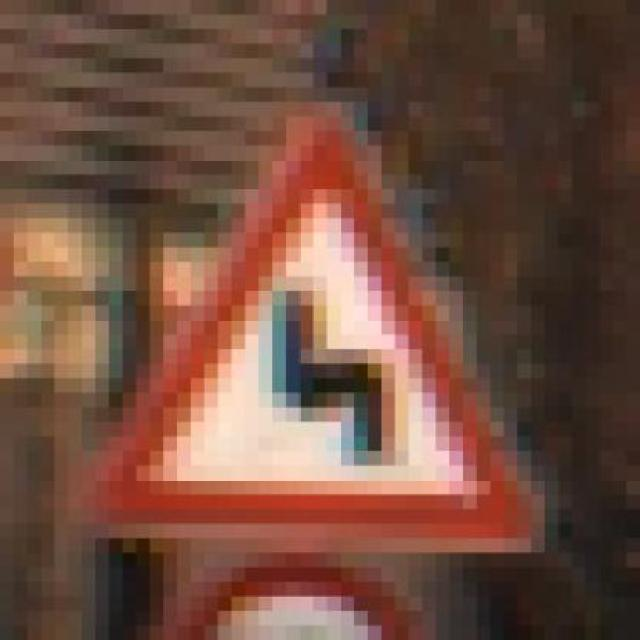Left Zig Zag Traffic: (96, 72, 544, 568)
